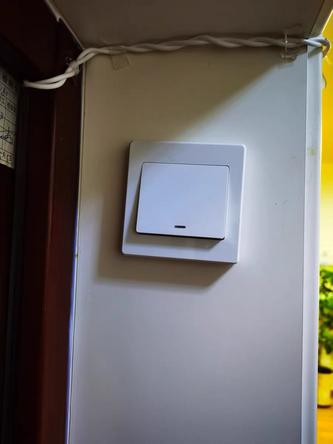switch: (135, 156, 233, 245)
